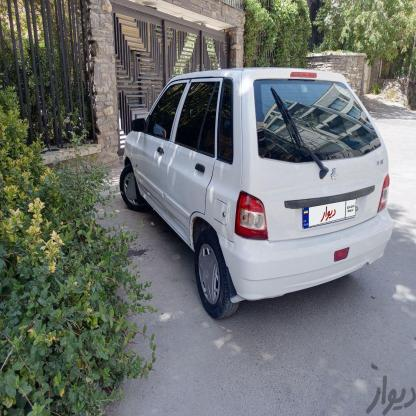Car: (124, 56, 405, 340)
